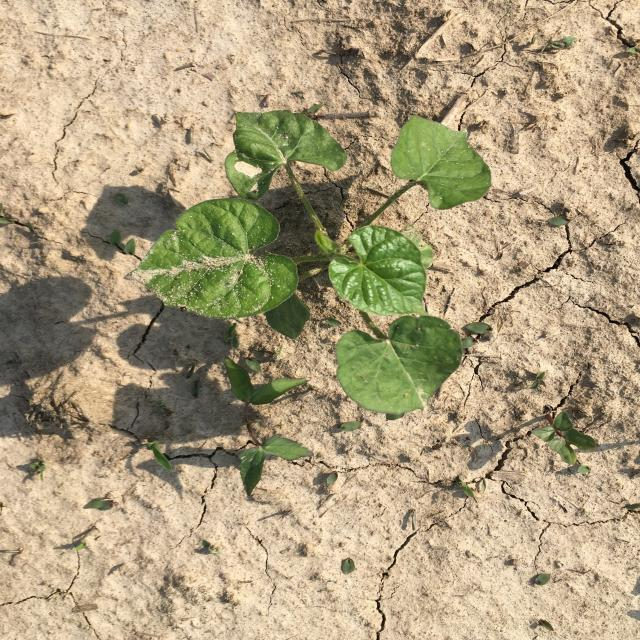MorningGlory: (123, 110, 491, 414), (224, 356, 315, 497), (531, 409, 596, 465)
